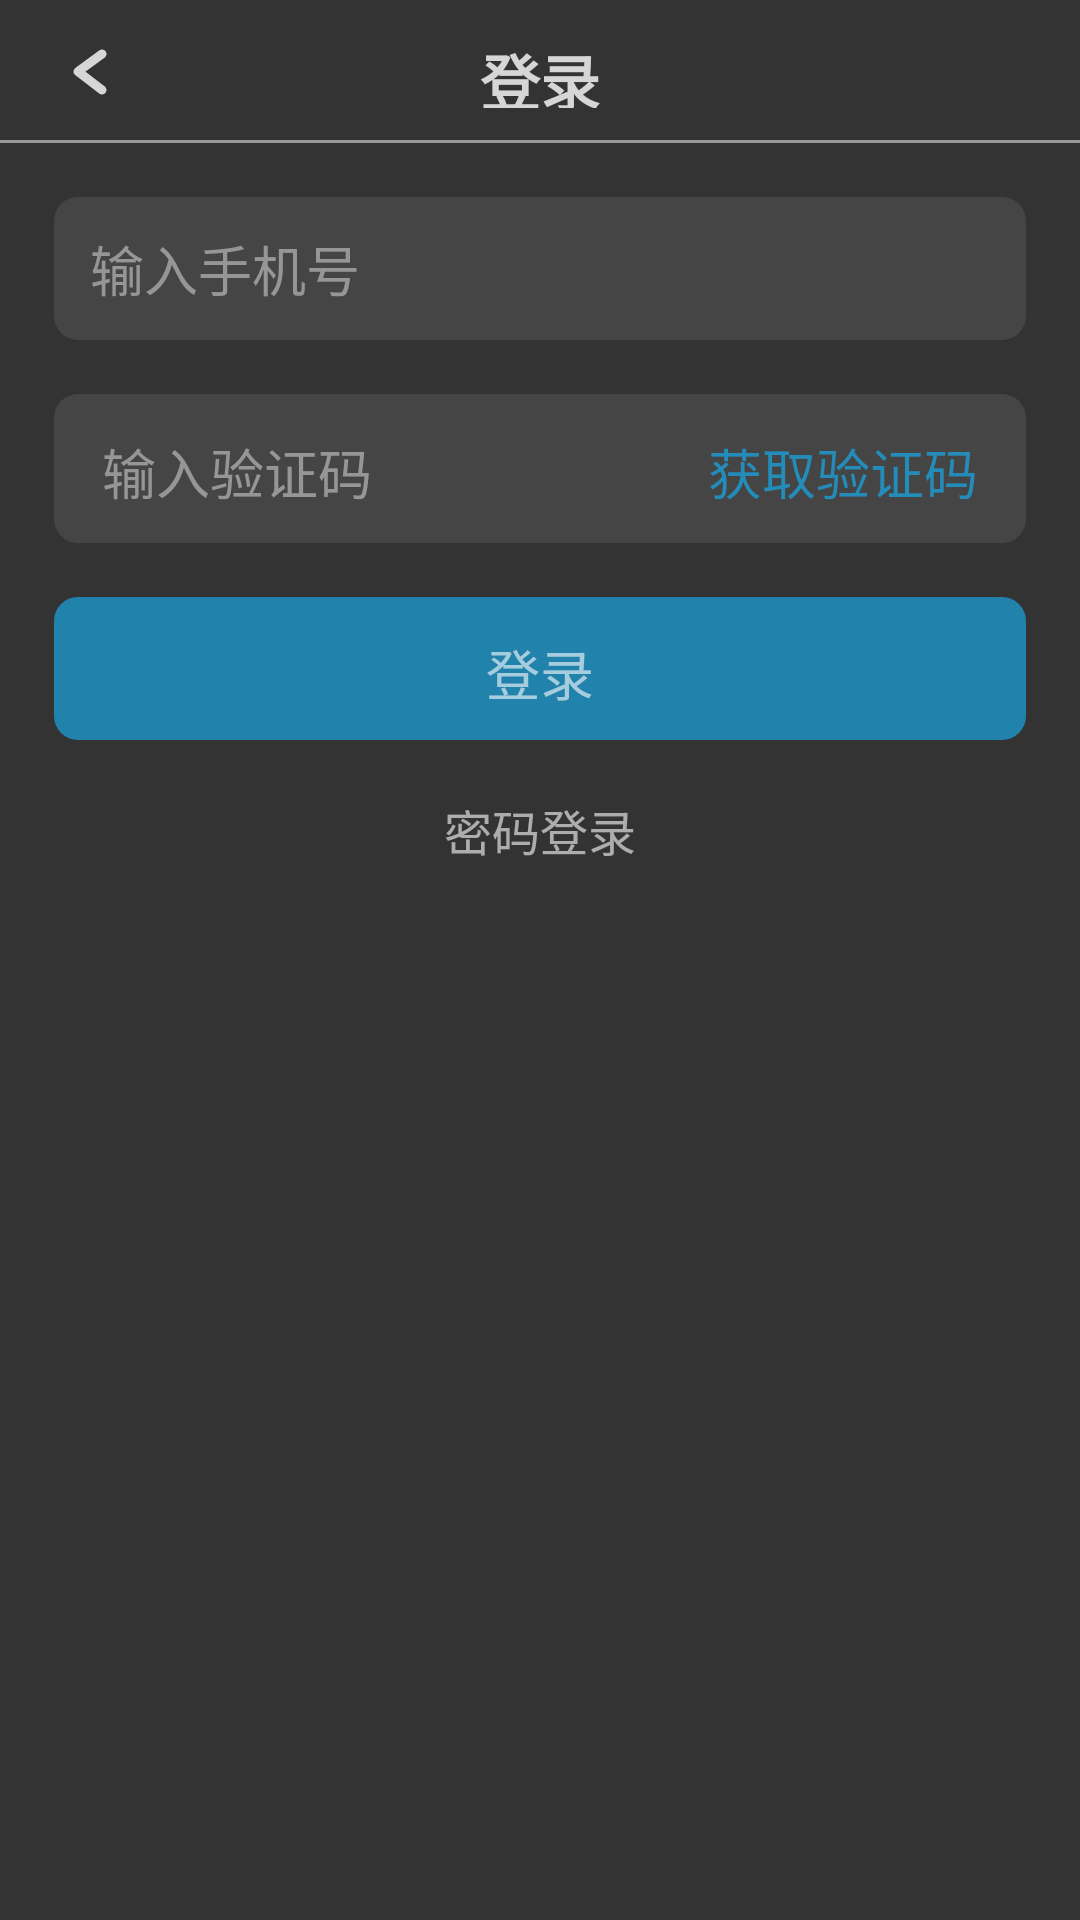

Icon click points for this 1080px×1920px phone screenshot, format [x,y]:
back: [90,72]
